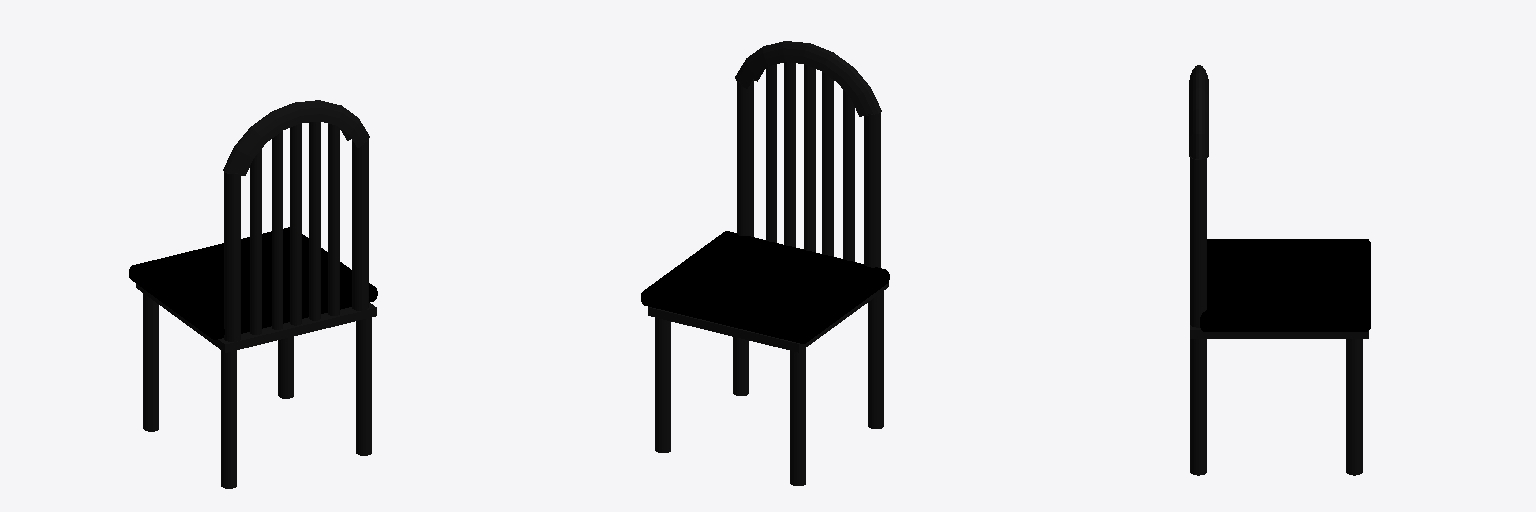
3 views of the same model, side by side, from view 1: azimuth 30°, elevation 25°; view 2: azimuth 150°, elevation 25°; view 3: azimuth 270°, elevation 25° (orthographic).
Visible parts, largest first — view 1: polySurface609; view 2: polySurface609; view 3: polySurface609.
Part boxes in pixels (x1,y1,x2,y2): polySurface609: (129, 100, 377, 488); polySurface609: (641, 41, 889, 485); polySurface609: (1189, 65, 1370, 475).
Size of the model in its own units: 1.48 by 3.1 by 1.4.
2 materials, 1 textured.